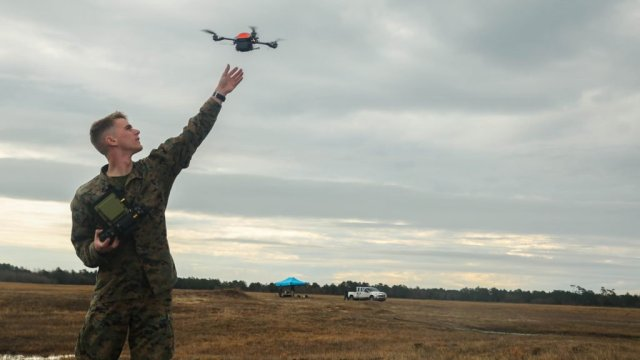drone: (196, 21, 294, 62)
person: (69, 63, 250, 360)
